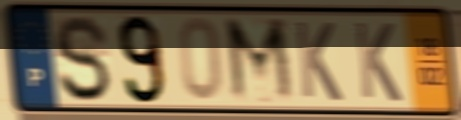0: (175, 14, 225, 106)
9: (114, 12, 168, 107)
K: (291, 18, 345, 105), (351, 19, 405, 106)
M: (221, 14, 300, 107)
S: (51, 12, 114, 105)
